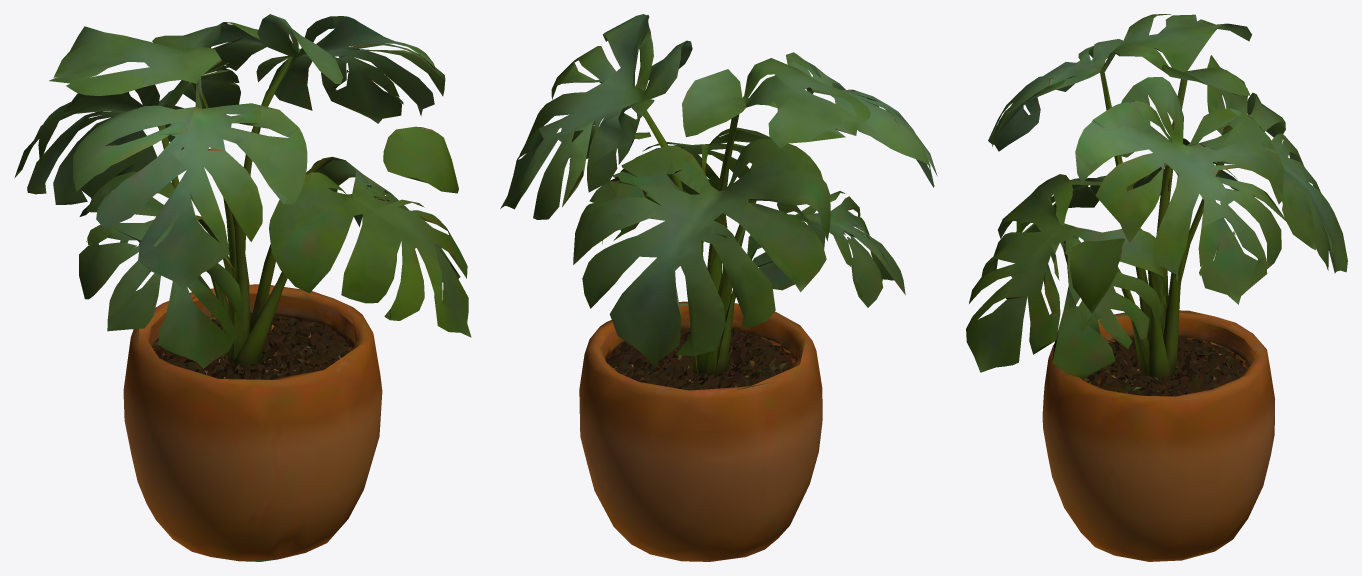
File: planta.glb
The picture shows the model from 3 angles, left to right: view 1: azimuth 30°, elevation 25°; view 2: azimuth 150°, elevation 25°; view 3: azimuth 270°, elevation 25°; orthographic projection. The views are drawn at different scales.
Parts seen in each view (by area): view 1: objeto; view 2: objeto; view 3: objeto.
Part boxes in pixels (bbox=[...]): objeto: bbox=[14, 14, 471, 561]; objeto: bbox=[500, 14, 937, 561]; objeto: bbox=[966, 14, 1347, 561].
Size of the model in its own units: 0.6008 by 0.7493 by 0.5611.
Materials: 1 (1 with a texture image).
